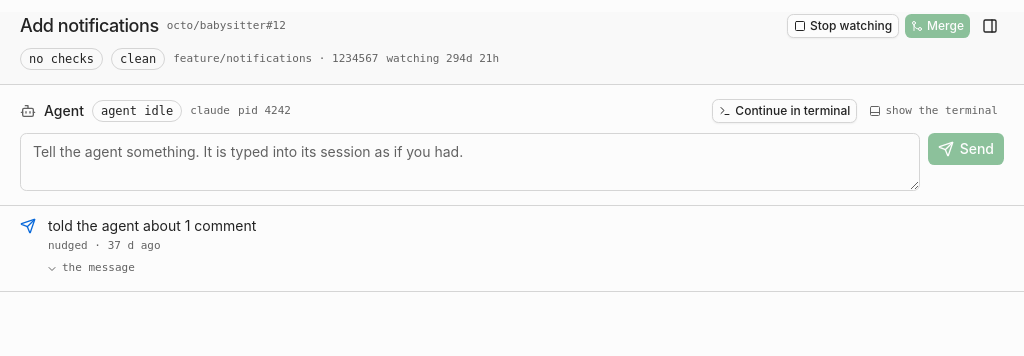
shows the message a nudge carried
Expected: the text "told the agent about 1 comment" is shown, [48,217,256,234]
What coordinates should you click on to do the following:
click the button "the message"
I would click on:
 (90, 268)
Its box is [40,256,141,280].
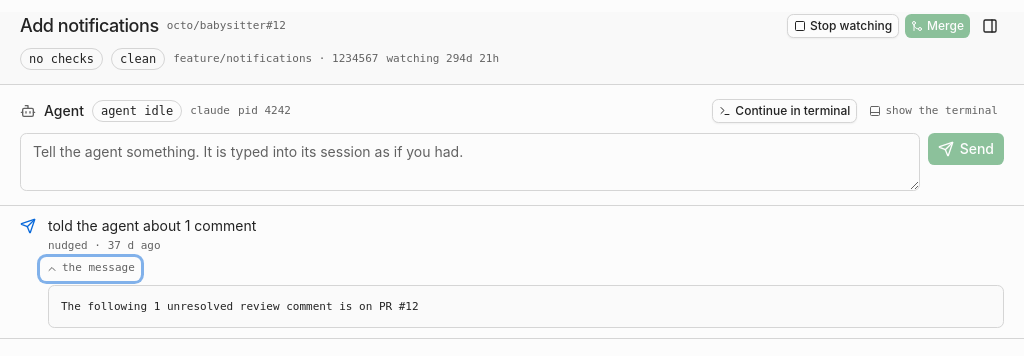
Now the text "The following 1 unresolved review comment is on PR #12" is shown, box [48,284,1004,328]
